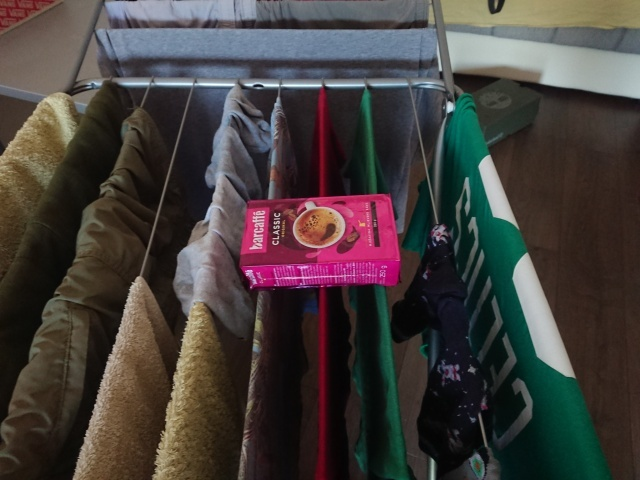Barcaffe Classic Original 225g: (236, 193, 404, 292)
